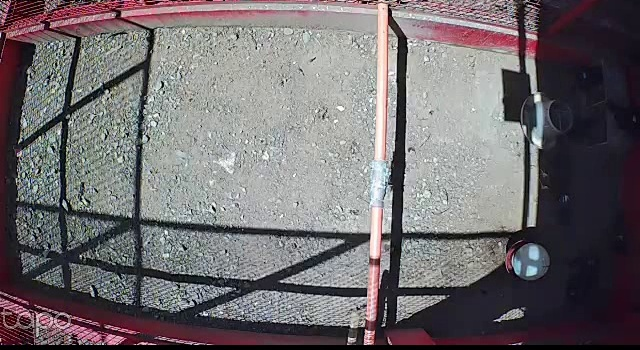Drinker: (503, 237, 556, 279)
Feeder: (516, 90, 577, 152)
